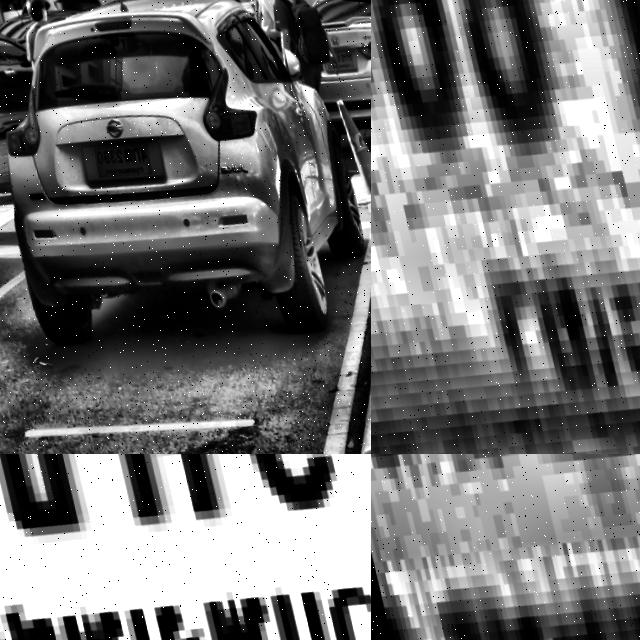license-plate: (371, 0, 640, 454), (0, 454, 371, 640), (371, 454, 640, 640), (76, 125, 167, 189), (328, 33, 358, 61)
